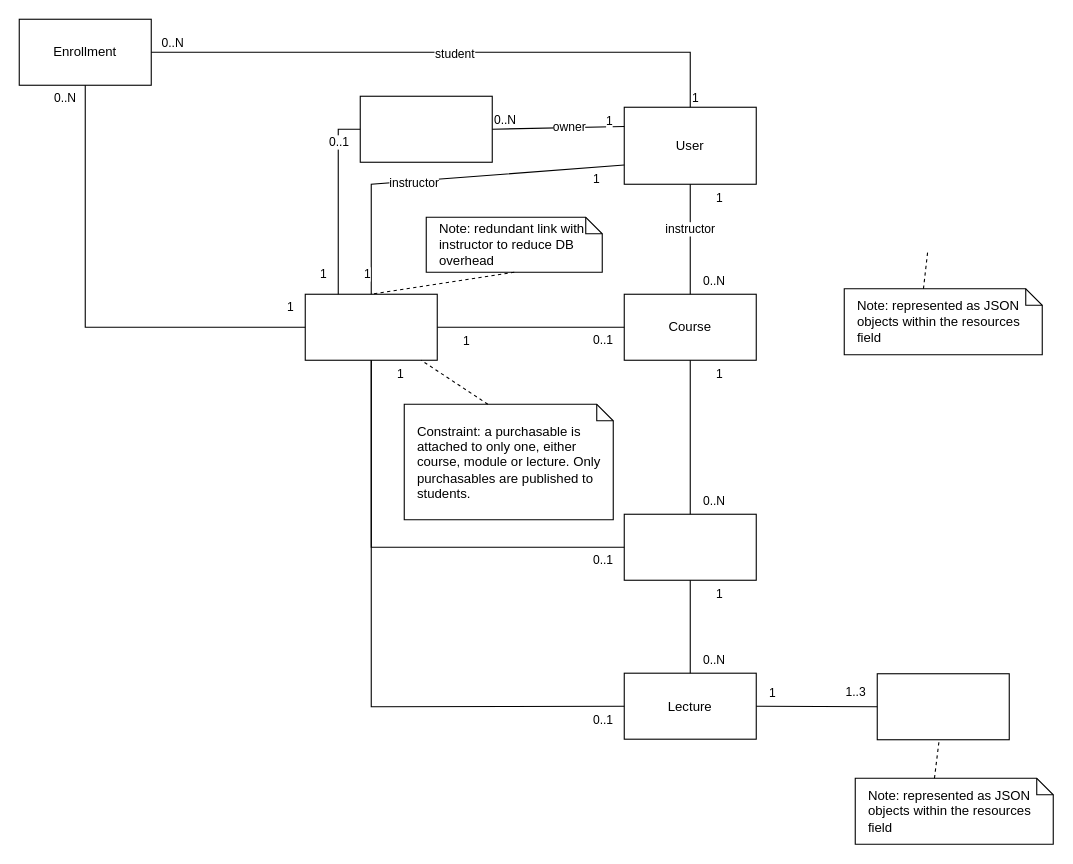
The diagram is 1073 pixels wide and 864 high, and some of its shapes have lost their labels. Each missing label, with the box of its shape:
Module: (623, 513, 756, 580)
Promotion: (359, 95, 492, 162)
Purchasable: (304, 293, 437, 360)
Resource: (876, 673, 1009, 740)
